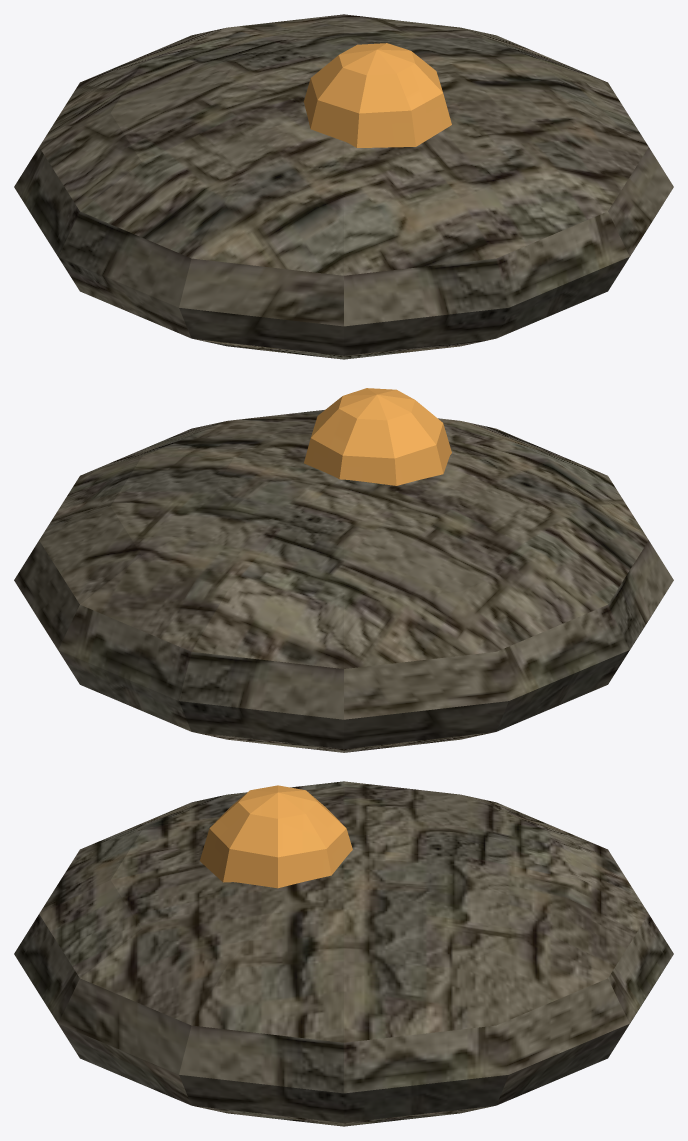
File: pearl_shell_01.glb
3 renders of one model, top to bottom at view 1: azimuth 30°, elevation 25°; view 2: azimuth 150°, elevation 25°; view 3: azimuth 270°, elevation 25°, orthographic.
Visible parts, largest first — view 1: pearl_shell_01; view 2: pearl_shell_01; view 3: pearl_shell_01.
Boxes of the visible parts, x1=… form: pearl_shell_01: x1=14, y1=14, x2=673, y2=359; pearl_shell_01: x1=14, y1=388, x2=673, y2=752; pearl_shell_01: x1=14, y1=781, x2=673, y2=1126.
Size of the model in its own units: 1 by 0.445 by 1.
2 materials, 2 textured.
